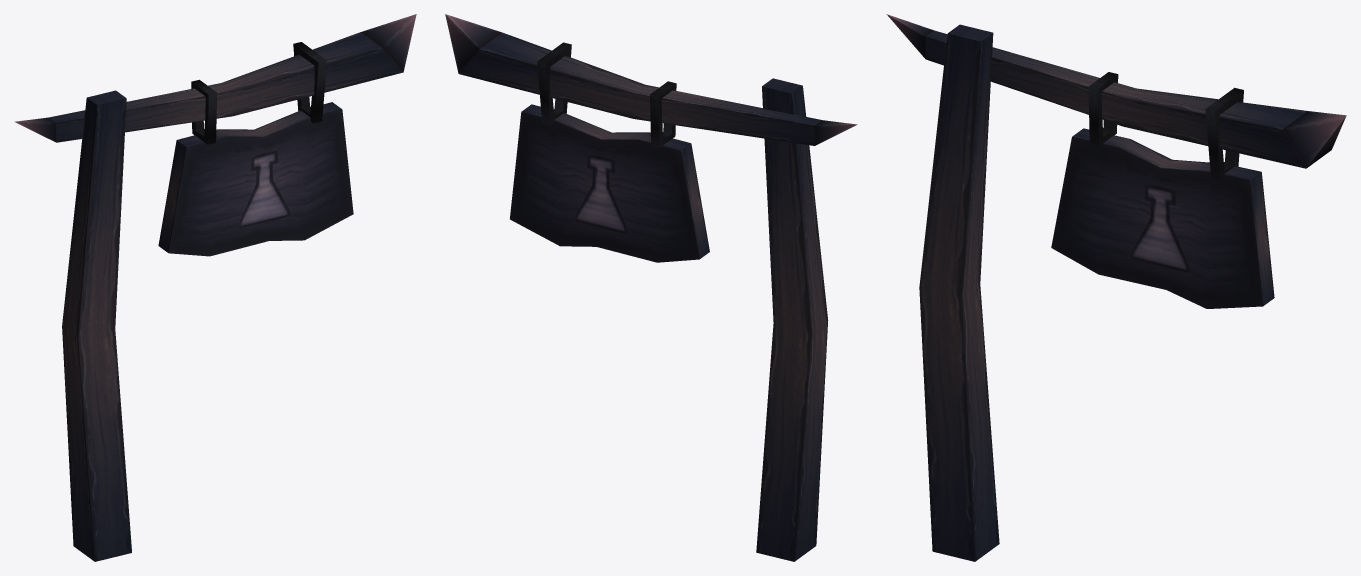
The model's file is Sign_Potion.fbx.
3 renders of one model, left to right at view 1: azimuth 30°, elevation 25°; view 2: azimuth 150°, elevation 25°; view 3: azimuth 330°, elevation 25°, orthographic. The views are drawn at different scales.
Parts seen in each view (by area): view 1: Sign_Potion; view 2: Sign_Potion; view 3: Sign_Potion.
Part boxes in pixels (x1,y1,x2,y2): Sign_Potion: (14, 14, 416, 561); Sign_Potion: (445, 14, 857, 561); Sign_Potion: (886, 14, 1346, 561).
Bounding box in the file's own units: 108 × 115 × 15.24.
1 material, 1 textured.
